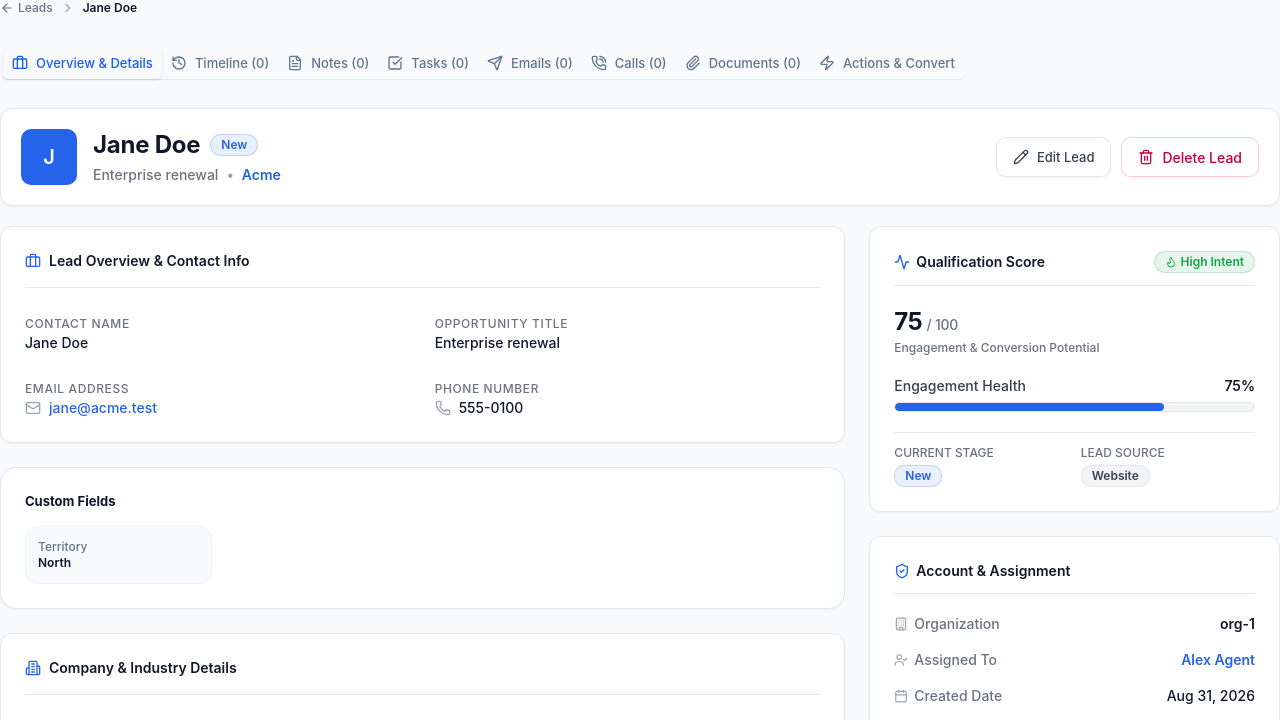
LeadDetailPage task workflow › shows an associated error when the shared due-date picker is empty
Click the tab "Tasks (0)" at coordinates (428, 63), box [378,48,478,78]
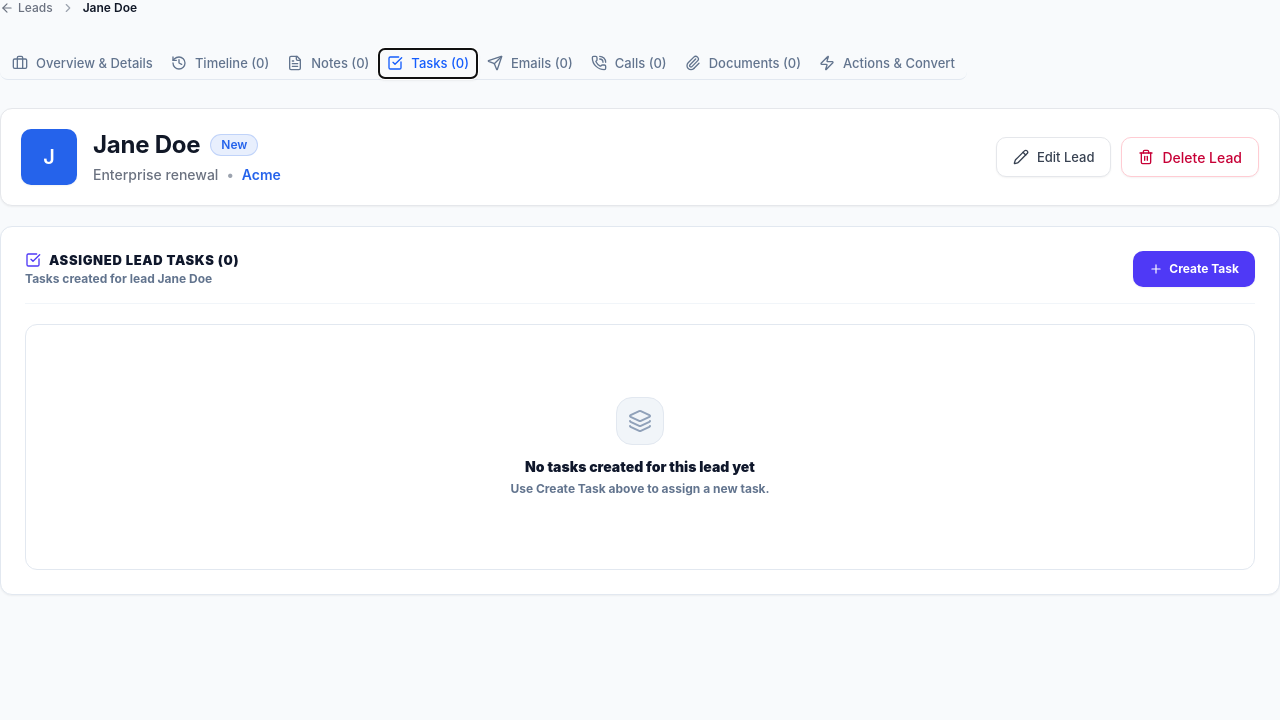
Click the button "Create Task" at coordinates (1194, 269), box [1133,251,1255,287]
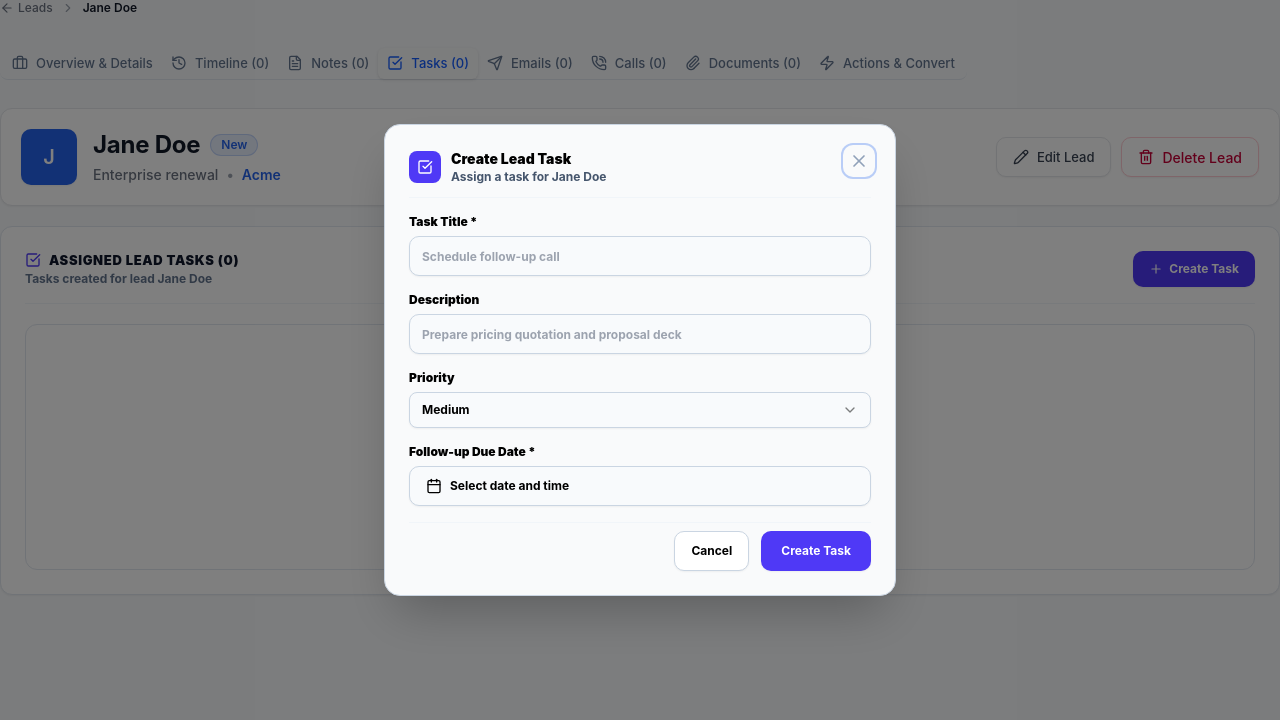
Type "Call customer" into the field with placeholder "Schedule follow-up call" at coordinates (640, 256), box [409,236,871,276]
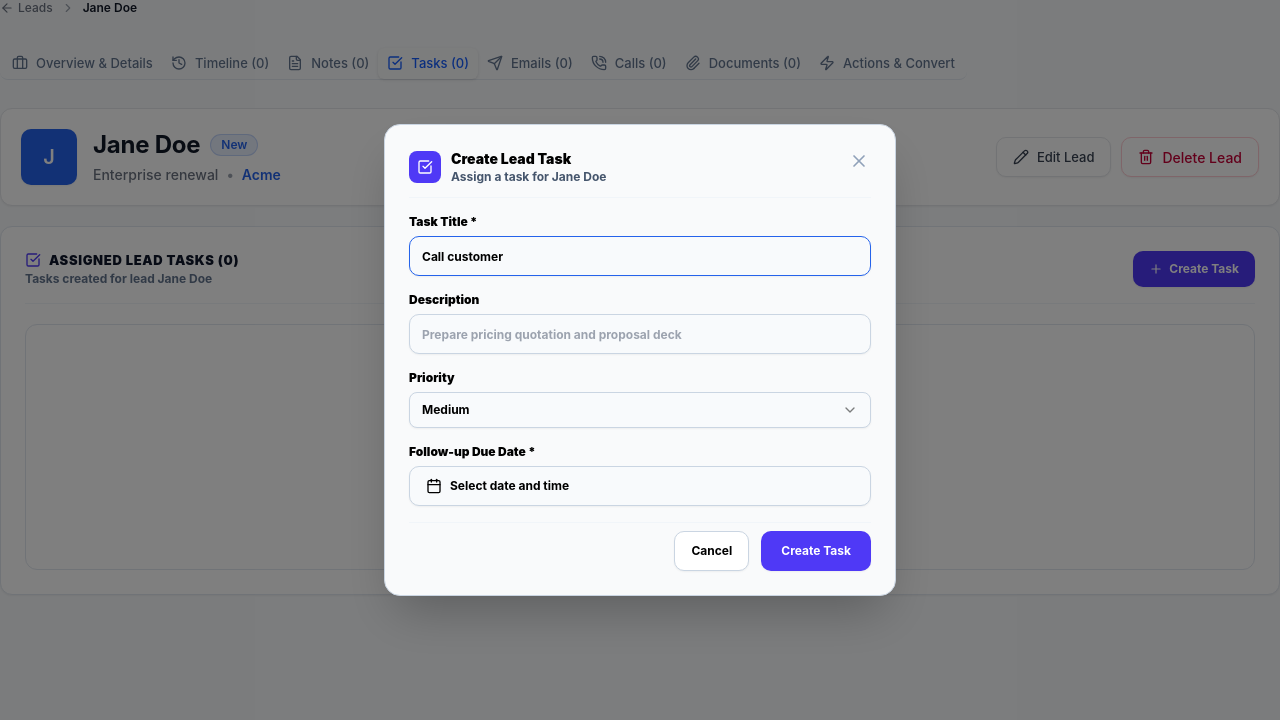
Click the button "Create Task" at coordinates (816, 551), box [761,531,871,571]
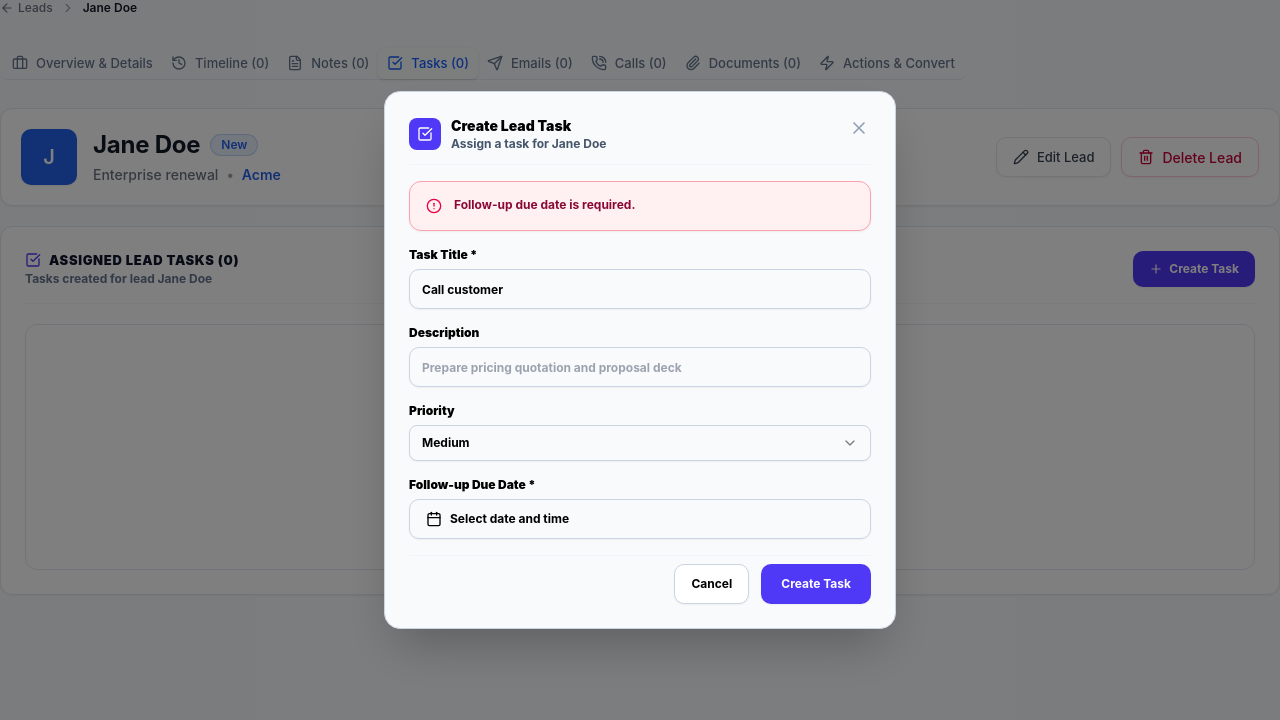
expect the text "Follow-up due date is required." is shown: met, box [454,197,635,212]
